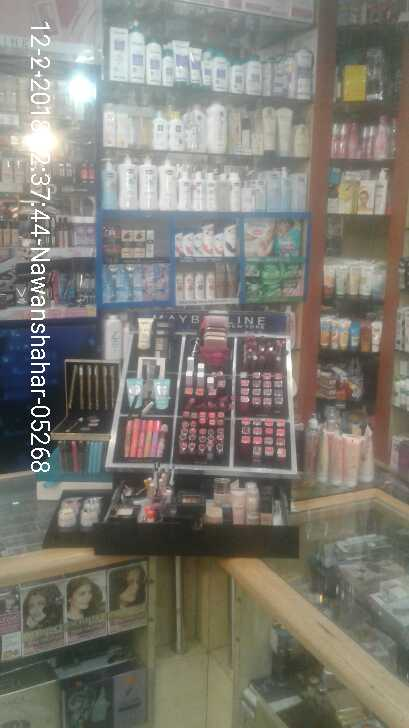venus: (105, 262, 123, 298), (123, 263, 140, 298)
